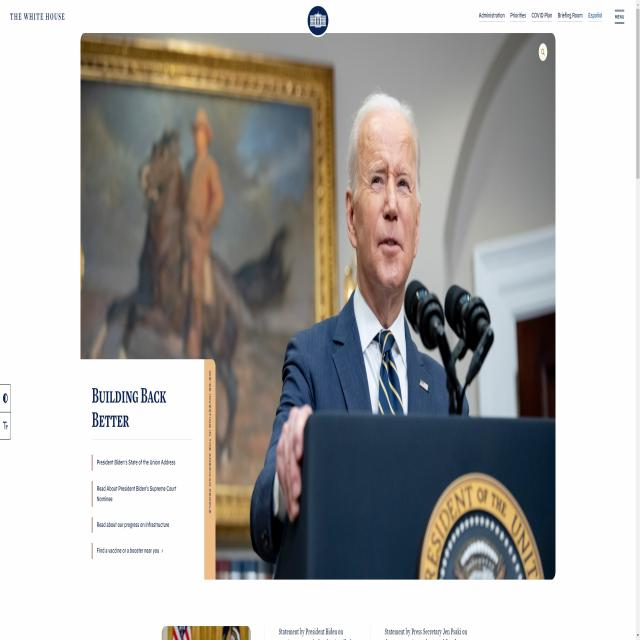menu-bar: (476, 2, 628, 30)
